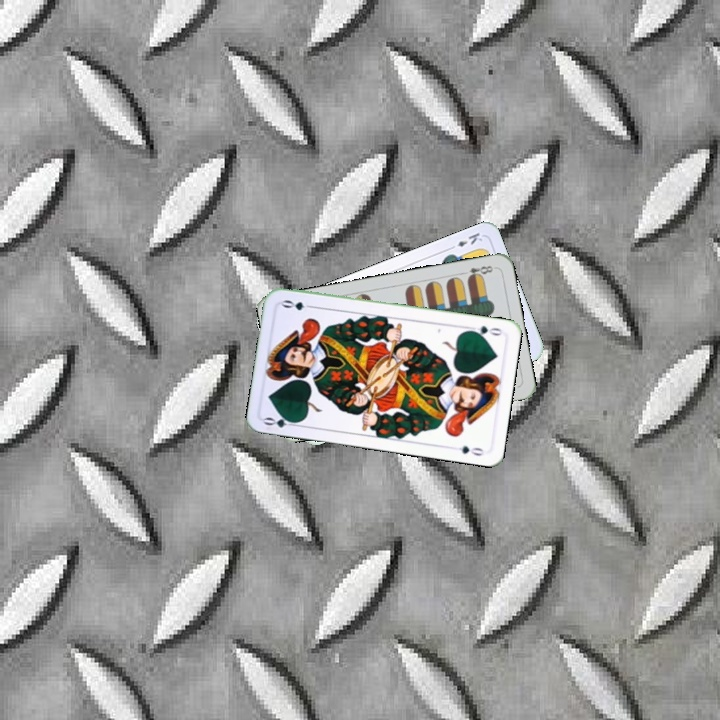E8: (457, 261, 495, 282)
EK: (445, 228, 485, 253)
GO: (260, 411, 301, 430), (464, 322, 504, 339)
